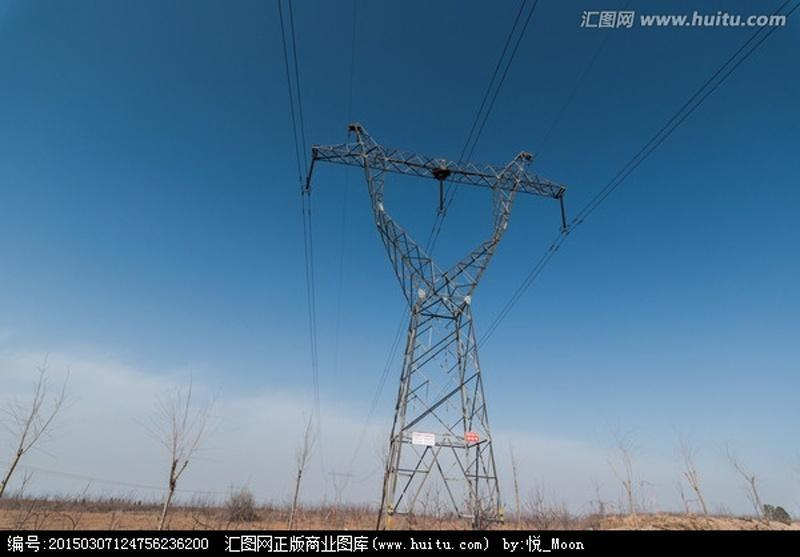power_tower: (299, 115, 571, 530)
